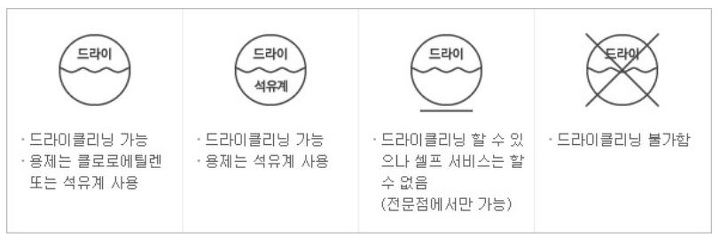do_not_dry_clean: (583, 32, 661, 106)
